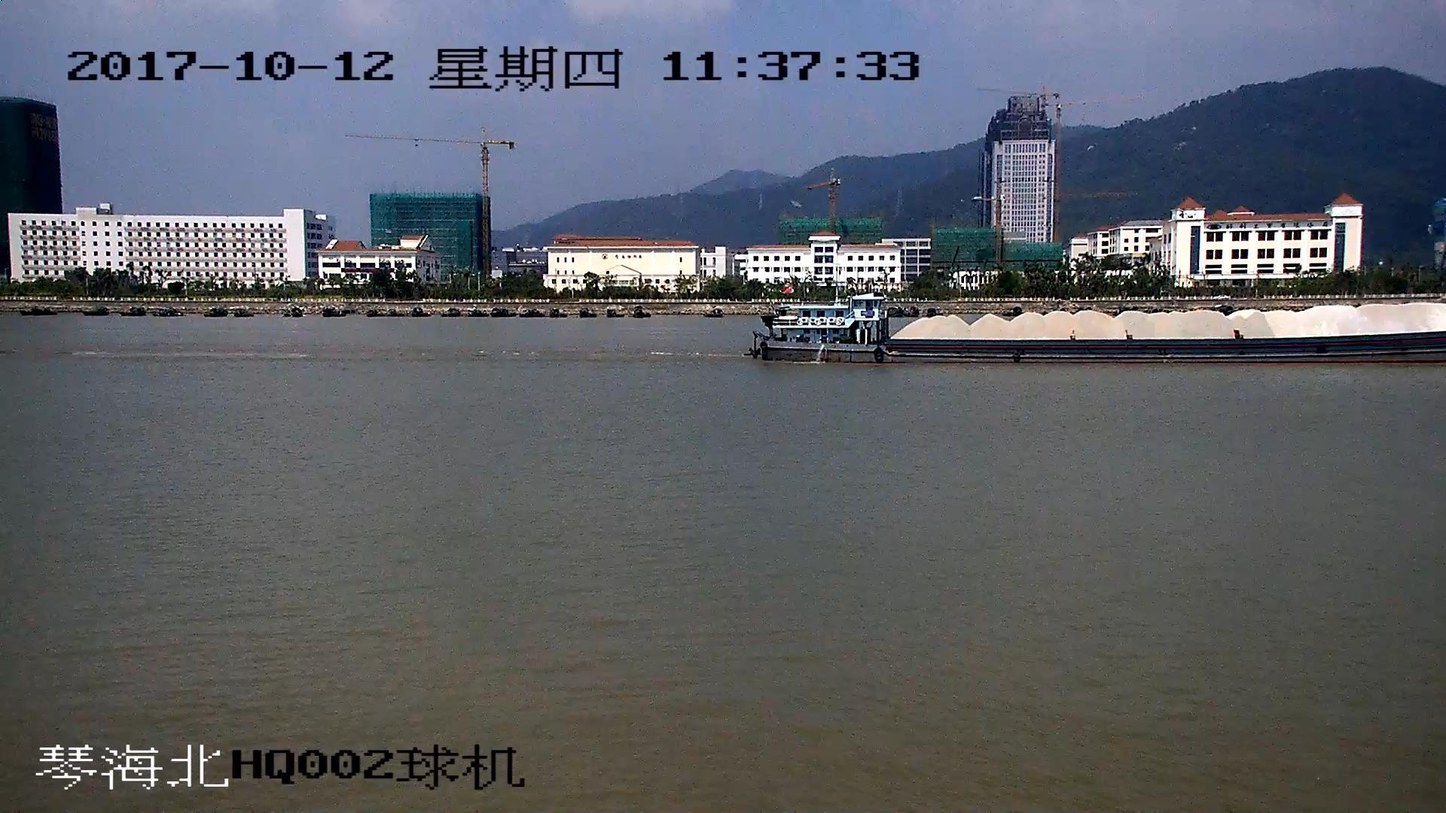ore carrier: (753, 294, 1445, 362)
